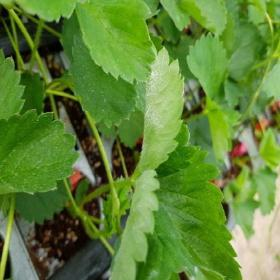Powdery Mildew Leaf: (108, 170, 197, 279), (129, 46, 196, 181)
